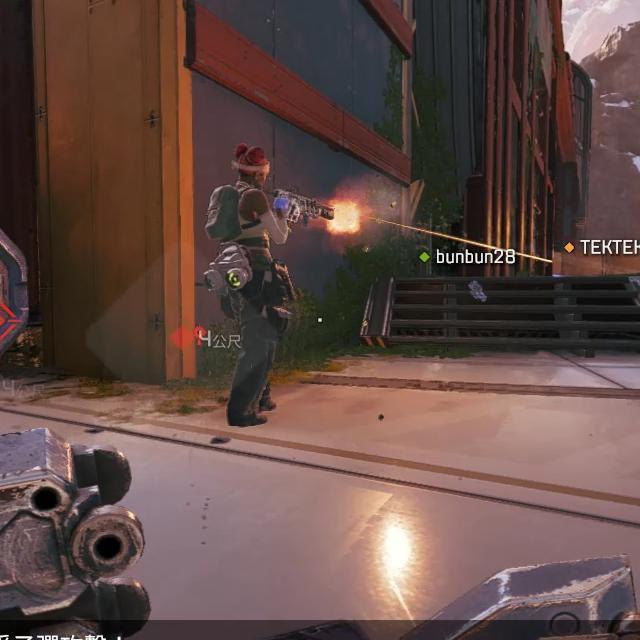avatar: (207, 142, 294, 436)
object: (323, 193, 365, 239)
